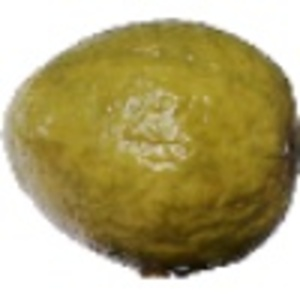goiaba: (2, 3, 297, 273)
